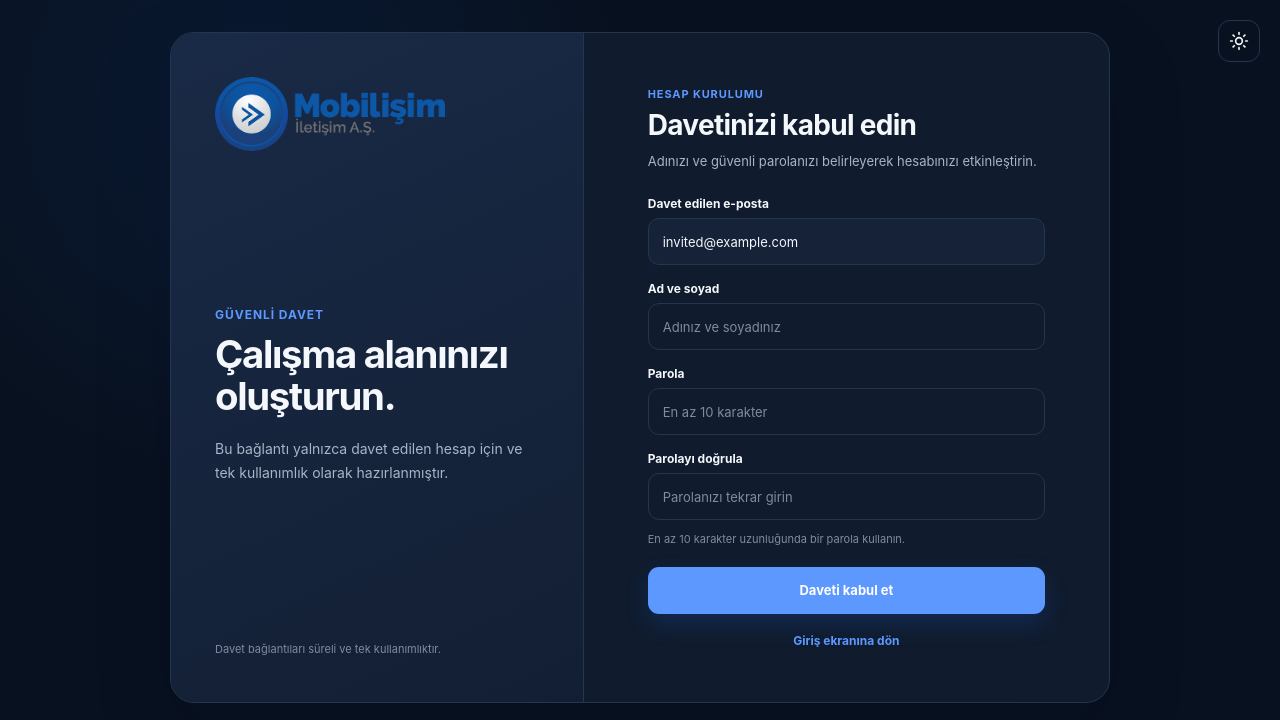
InvitationAcceptScreen › hesabı normalleştirilmiş adla oluşturur
The width and height of the screenshot is (1280, 720).
Expected: the field showing "invited@example.com" is shown, x1=648 y1=218 x2=1045 y2=265
Type "  Ada   Lovelace  " into the field labelled "Ad ve soyad" at (846, 327), box x1=648 y1=303 x2=1045 y2=350
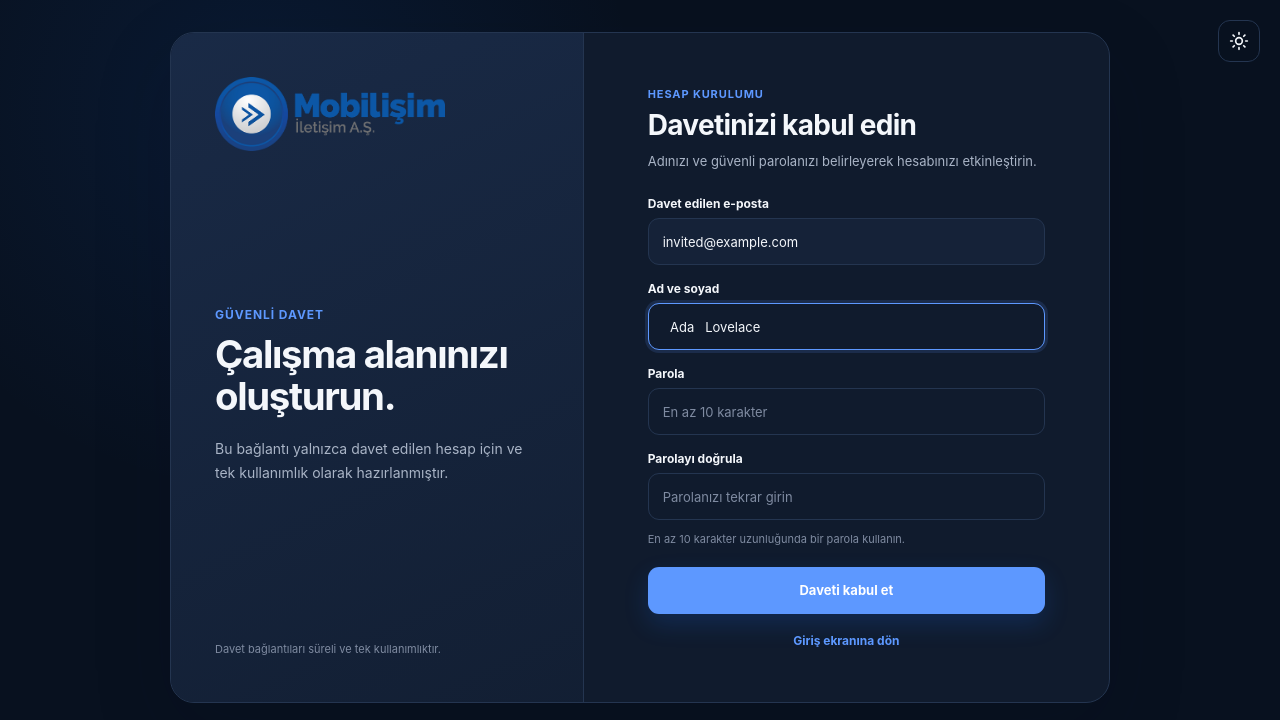
Type "strong-pass-1" into the password field labelled "Parola" at (846, 412), box x1=648 y1=388 x2=1045 y2=435
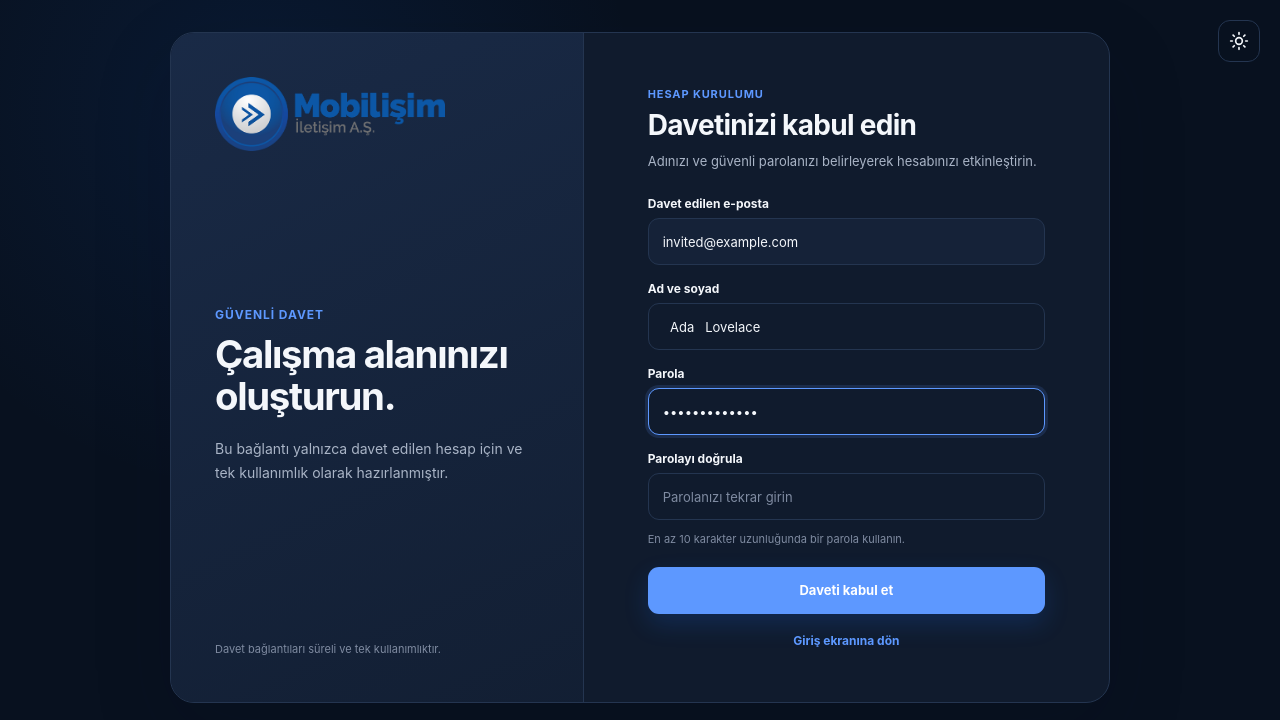
Type "strong-pass-1" into the password field labelled "Parolayı doğrula" at (846, 497), box x1=648 y1=473 x2=1045 y2=520
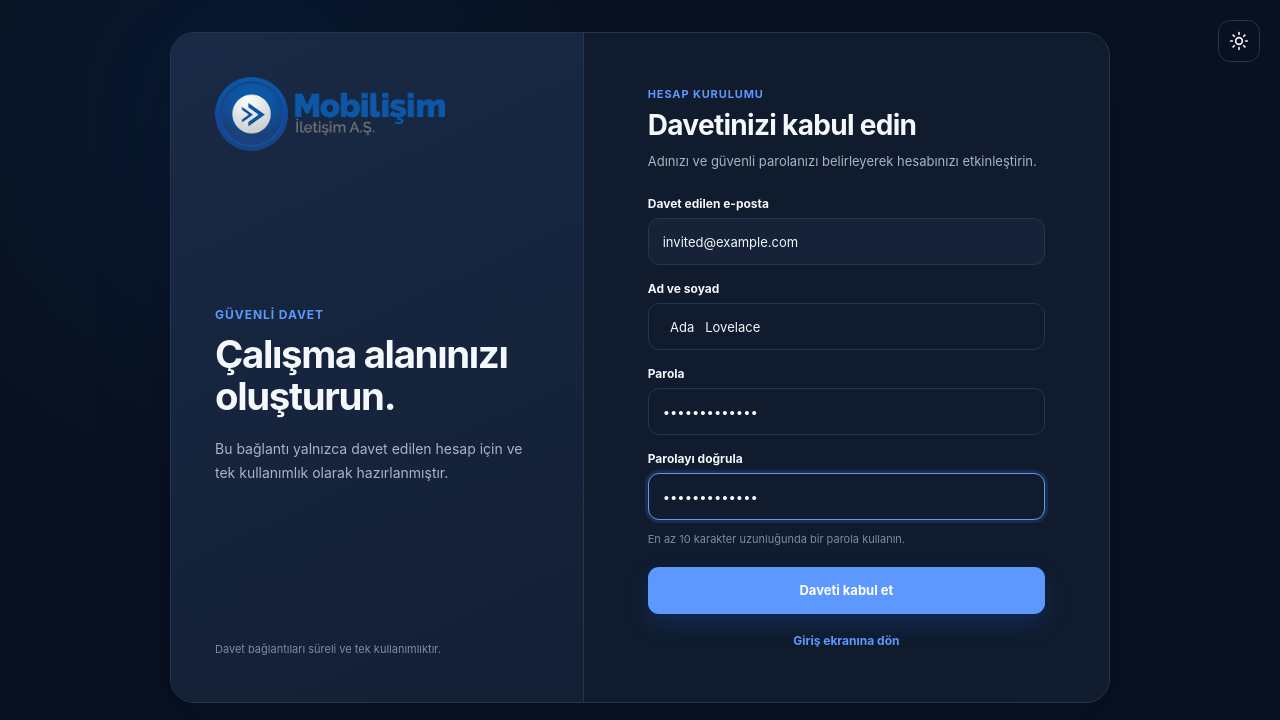
Click the button "Daveti kabul et" at (846, 590), box x1=648 y1=567 x2=1045 y2=614
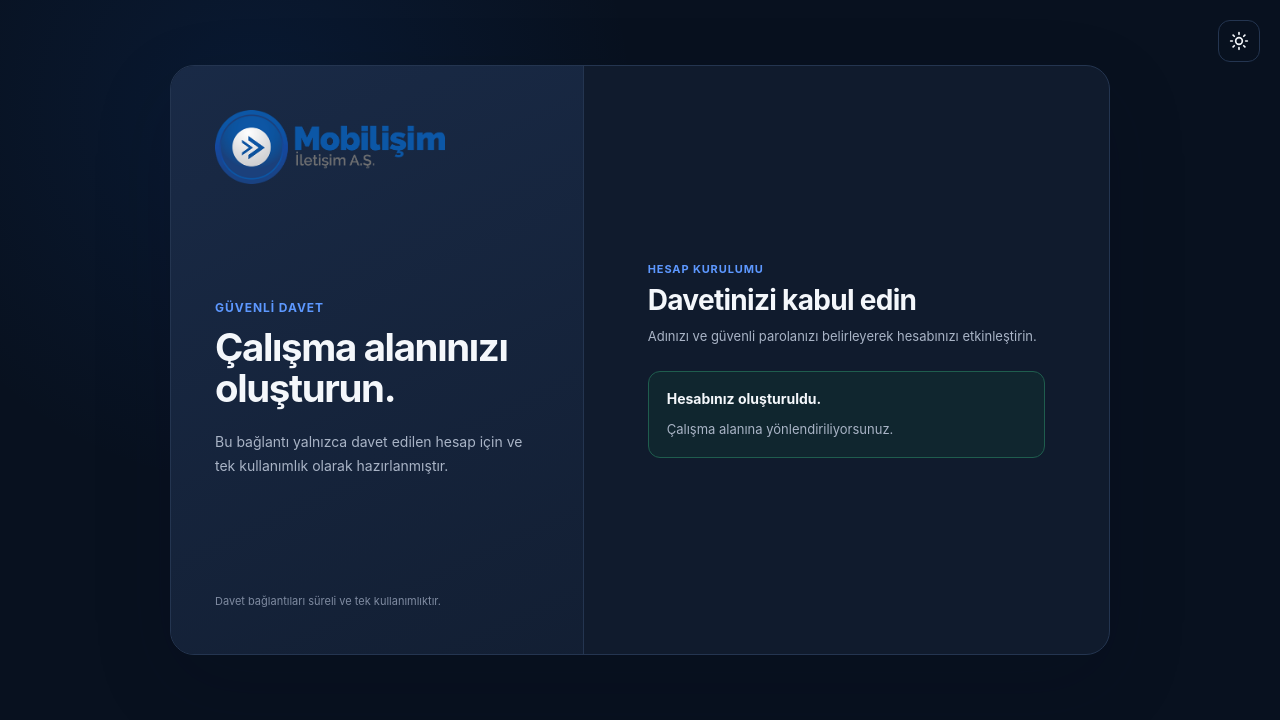
Now the message shows "Hesabınız oluşturuldu.", box x1=667 y1=390 x2=821 y2=407
